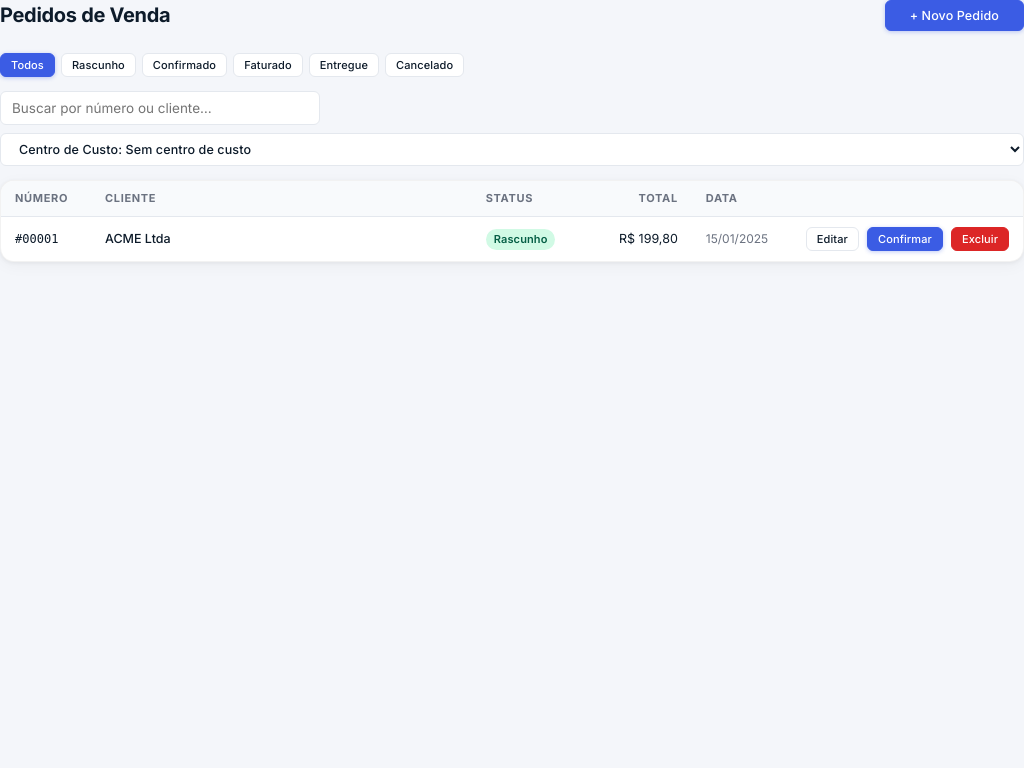
Scenario: OrdersPage — drawer / create form › populates material picker with registered materials
Click the button "+ Novo Pedido".
click(954, 16)  # box [885,0,1023,31]
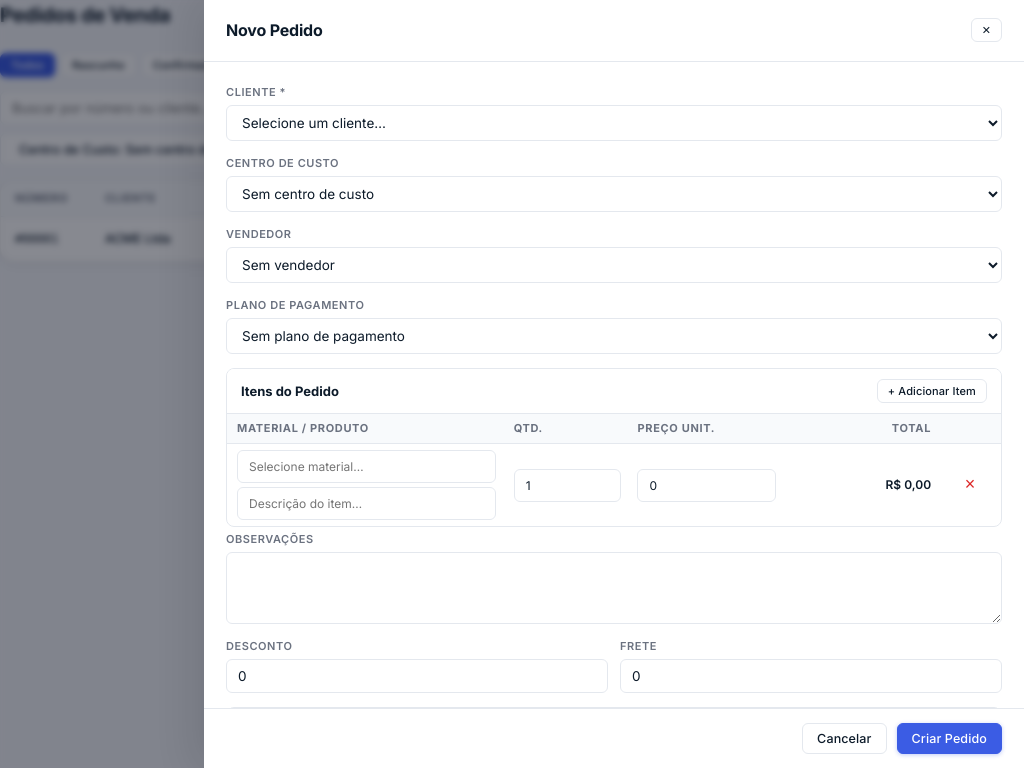
Check: the dropdown named "Material / Produto" is shown
Click the dropdown named "Material / Produto".
click(366, 466)  # box [237,450,496,483]
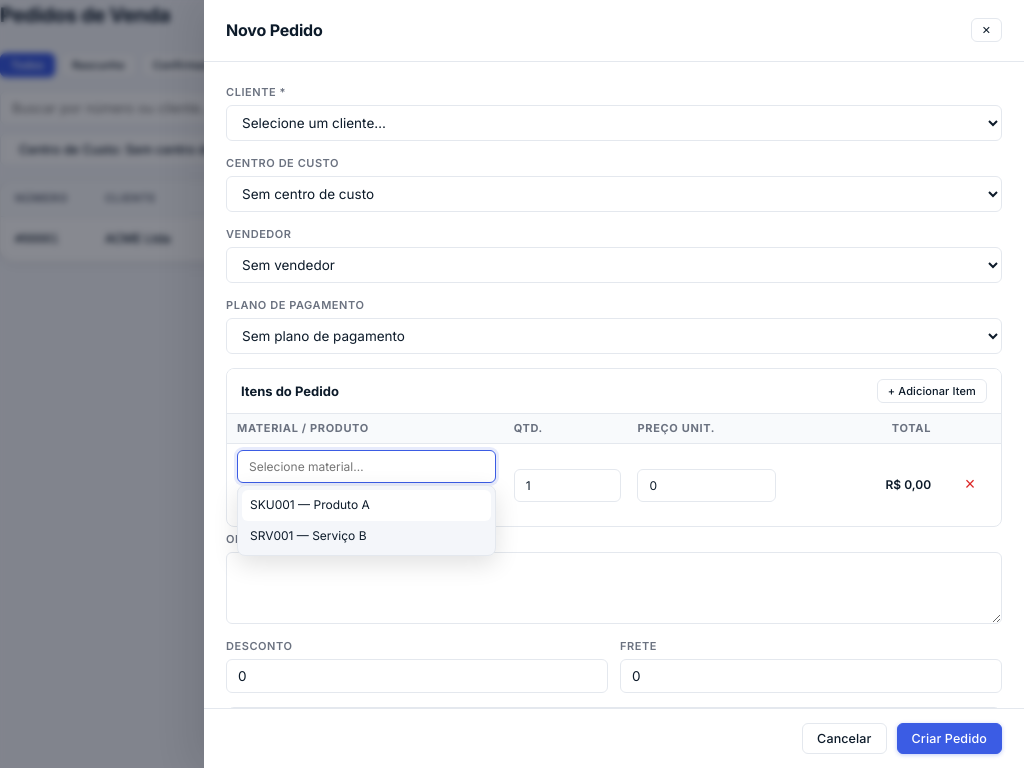
Check: the option "SKU001 — Produto A" is shown, box [242,490,491,521]
